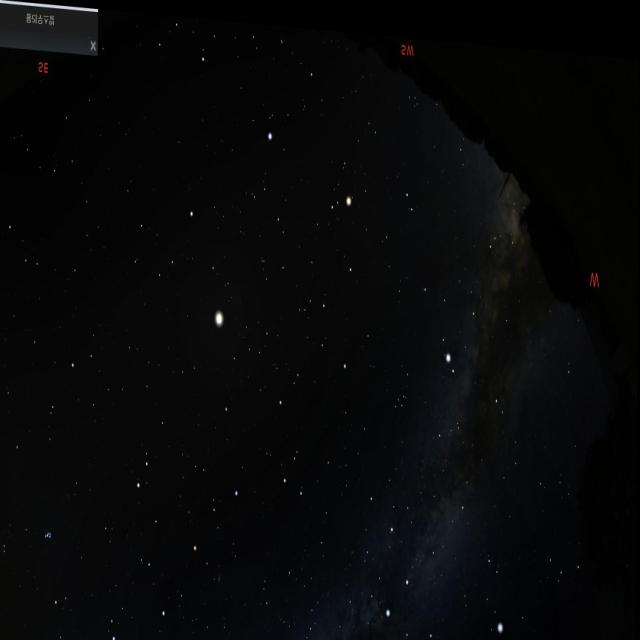aquila: (417, 214, 518, 376)
cygnus: (376, 479, 469, 640)
lyra: (474, 534, 510, 634)
pleiades: (38, 516, 62, 552)
